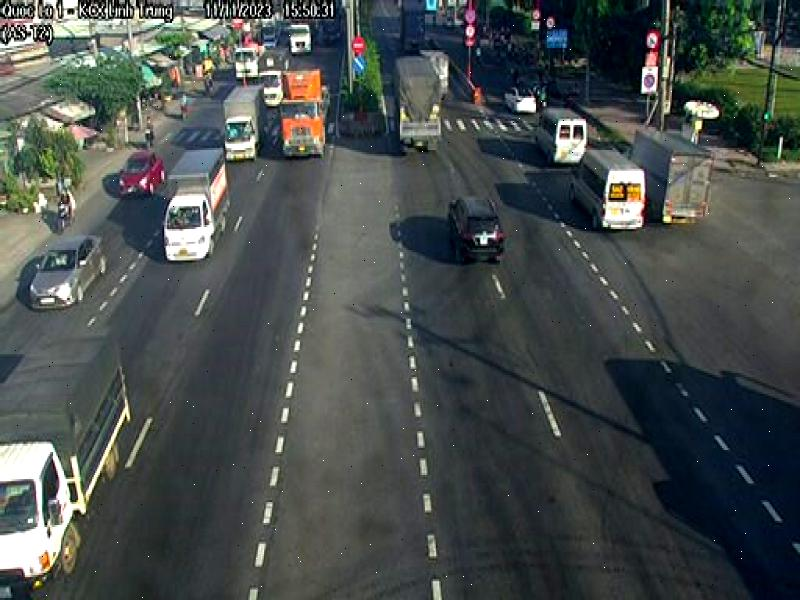truck: (0, 323, 132, 600), (622, 126, 715, 225), (162, 142, 231, 267), (392, 53, 446, 152), (280, 66, 334, 160), (225, 82, 264, 164)
